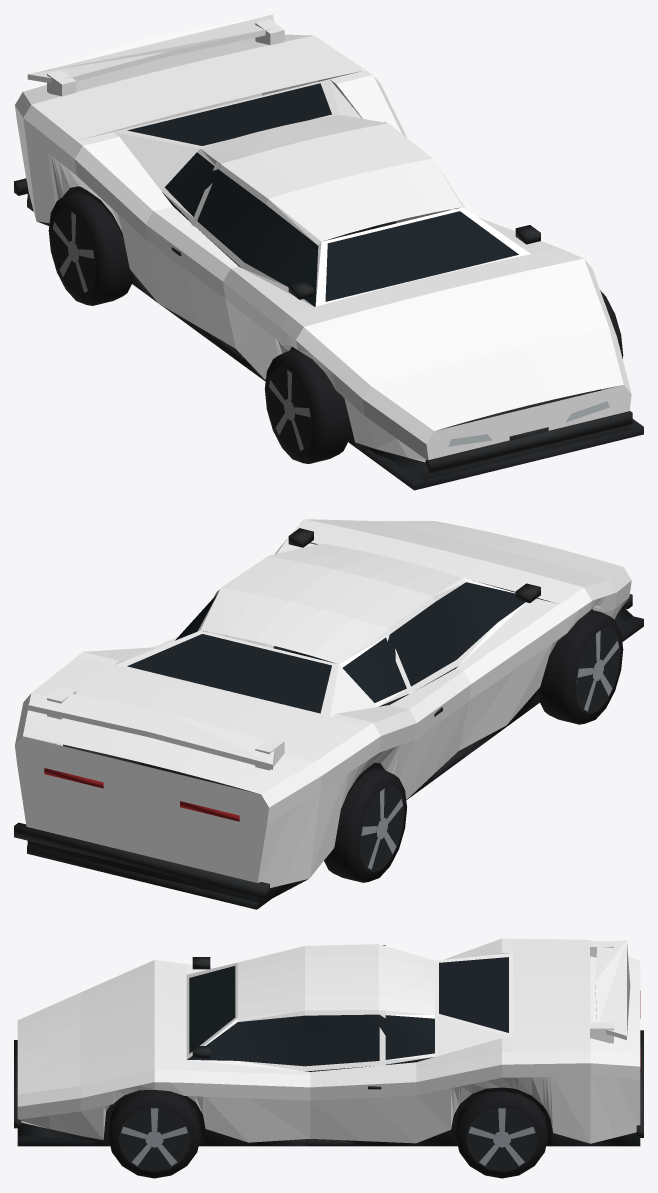
Rendered from vantra_obsidiana.glb.
3 views of the same model, one above another, from view 1: azimuth 30°, elevation 25°; view 2: azimuth 150°, elevation 25°; view 3: azimuth 270°, elevation 25° (orthographic). The views are drawn at different scales.
Parts seen in each view (by area): view 1: Body_Paint, Body_Details, Mount_FrontLeft_Wheel_Details, Mount_RearLeft_Wheel_Details; view 2: Body_Paint, Body_Details, Mount_FrontLeft_Wheel_Details, Mount_RearLeft_Wheel_Details; view 3: Body_Paint, Body_Details, Mount_FrontRight_Wheel_Details, Mount_RearRight_Wheel_Details.
Boxes of the visible parts, left/top/right/bottom form: Body_Paint: left=15, top=14, right=631, bottom=462; Body_Details: left=14, top=83, right=643, bottom=490; Mount_FrontLeft_Wheel_Details: left=264, top=349, right=350, bottom=463; Mount_RearLeft_Wheel_Details: left=48, top=191, right=133, bottom=305; Body_Paint: left=15, top=519, right=631, bottom=887; Body_Details: left=14, top=528, right=643, bottom=909; Mount_FrontLeft_Wheel_Details: left=537, top=609, right=623, bottom=724; Mount_RearLeft_Wheel_Details: left=324, top=767, right=406, bottom=882; Body_Paint: left=17, top=938, right=640, bottom=1143; Body_Details: left=14, top=957, right=643, bottom=1146; Mount_FrontRight_Wheel_Details: left=108, top=1090, right=200, bottom=1178; Mount_RearRight_Wheel_Details: left=455, top=1091, right=548, bottom=1178.
Bounding box in the file's own units: 2.14 × 1.2 × 4.7.
2 materials, 1 textured.
